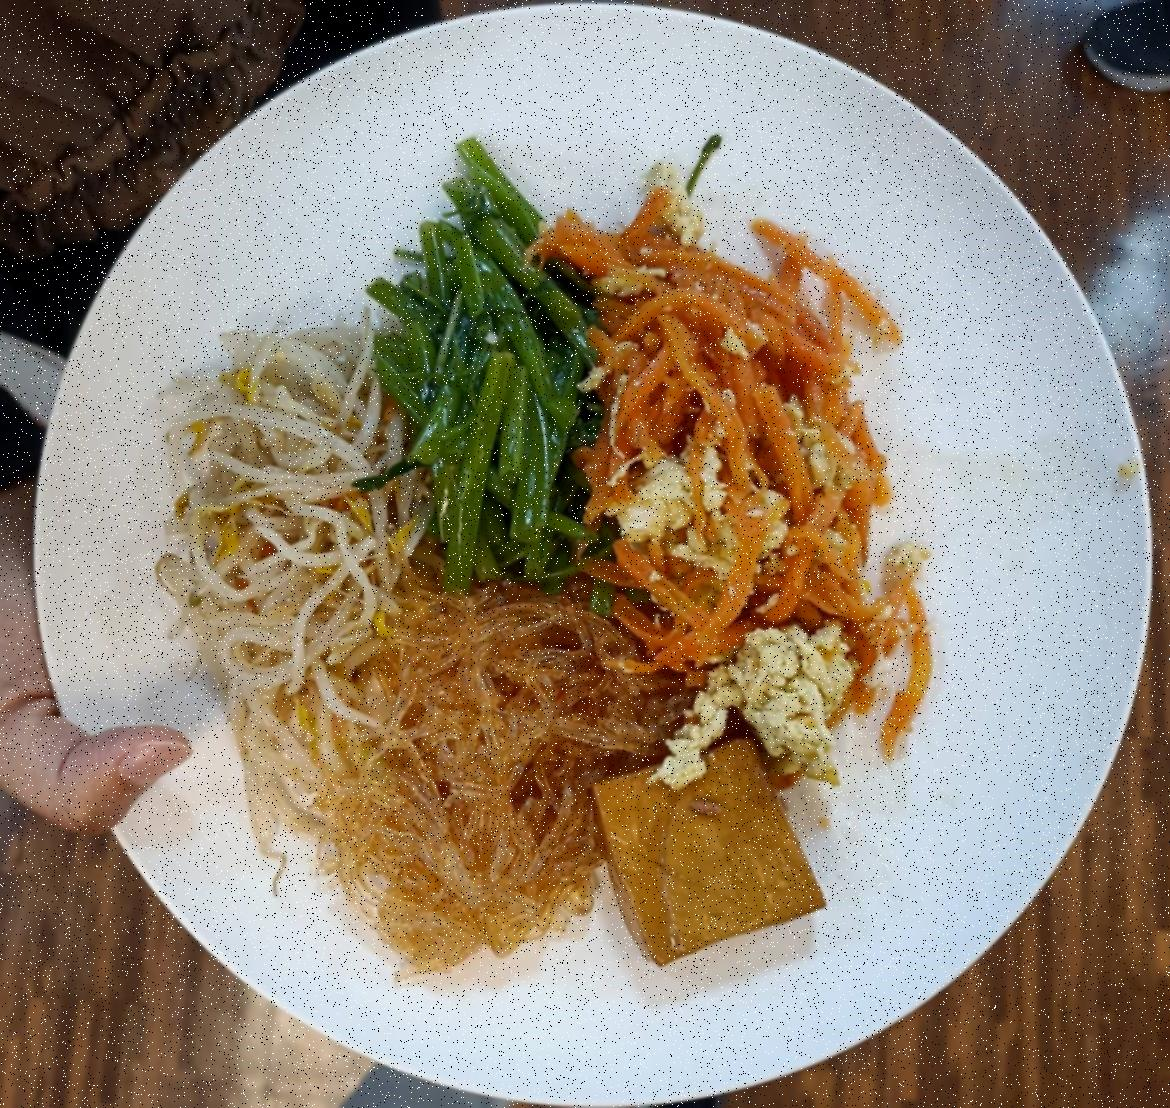plate: (11, 6, 1154, 1104)
side dish: (587, 194, 900, 737), (312, 557, 680, 960), (174, 305, 409, 789), (380, 178, 615, 562), (584, 719, 834, 978)
